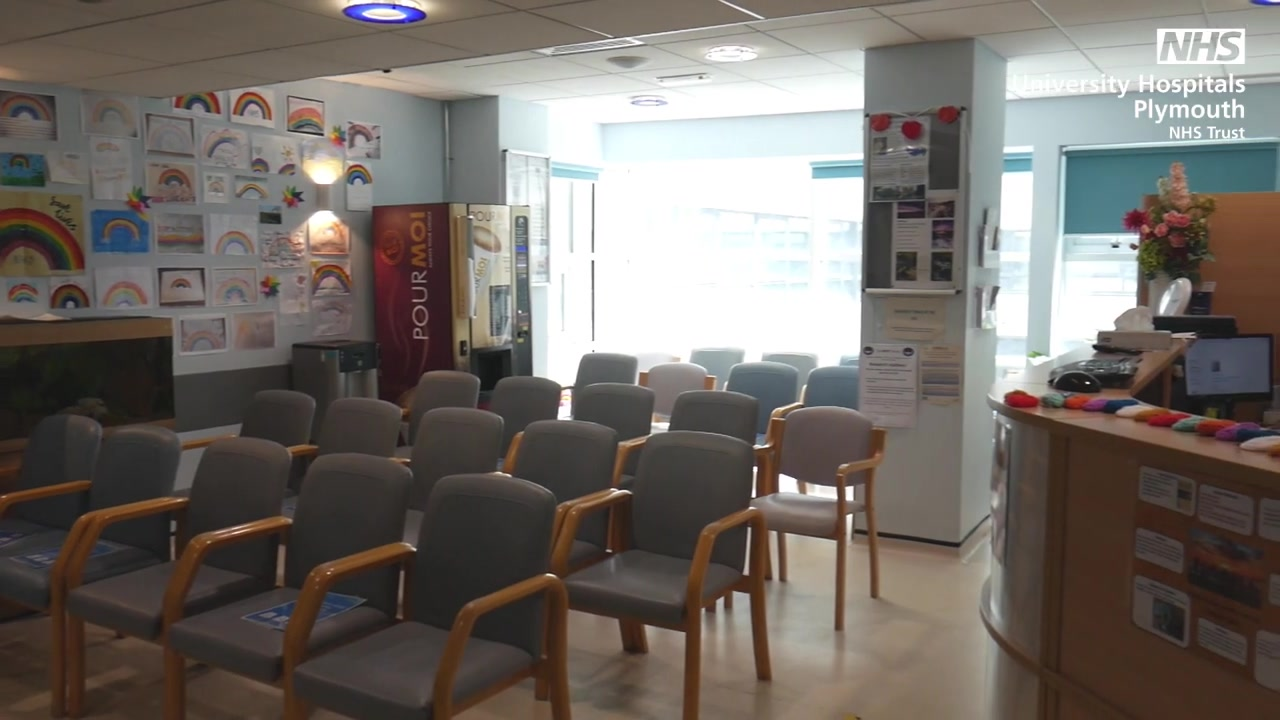chair: (65, 433, 573, 720), (173, 391, 618, 661), (391, 370, 754, 611), (550, 432, 775, 720), (1, 412, 182, 720), (572, 347, 861, 500), (748, 401, 886, 631)
computer: (1184, 333, 1278, 396)
counter: (984, 344, 1280, 720), (1, 313, 172, 427)
countertop: (983, 330, 1280, 496)
mouse: (1054, 371, 1104, 396)
